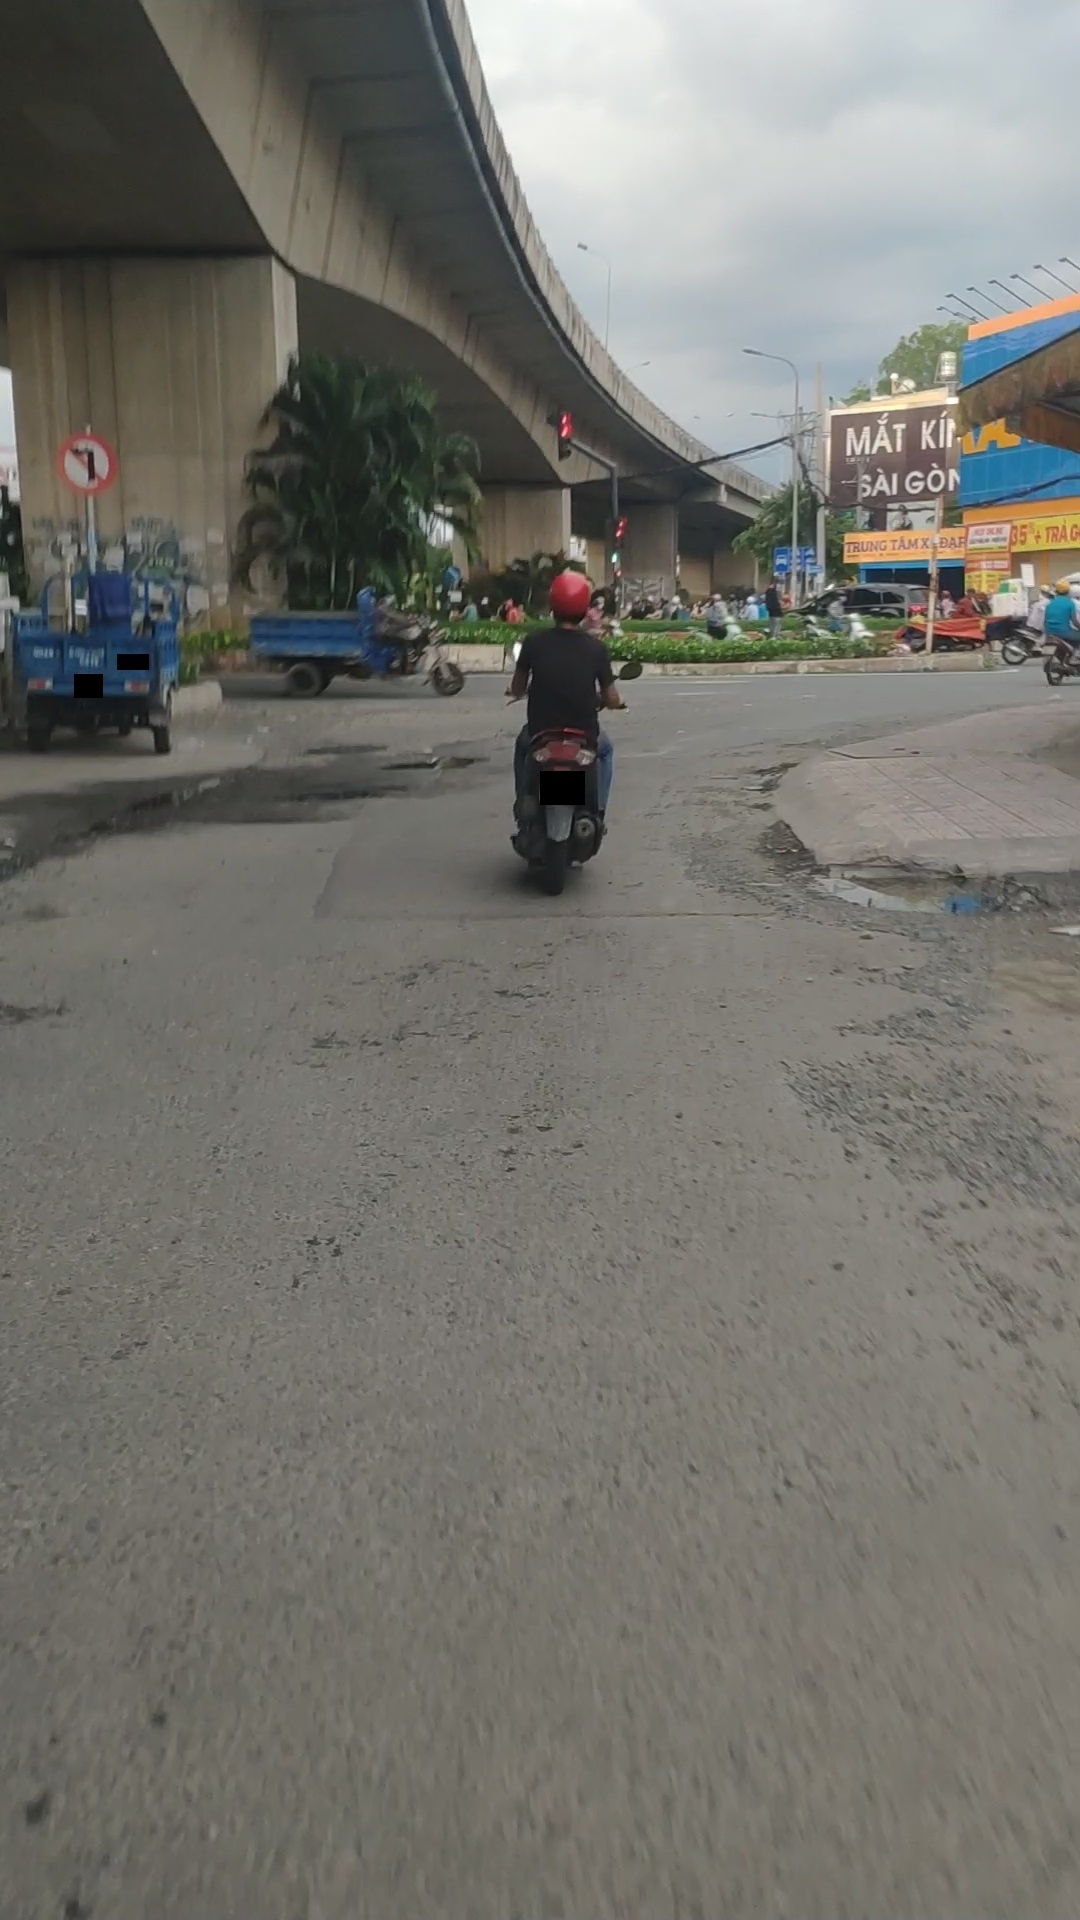hole: (786, 855, 1062, 920), (59, 771, 229, 847), (375, 752, 487, 778), (266, 789, 393, 808)
